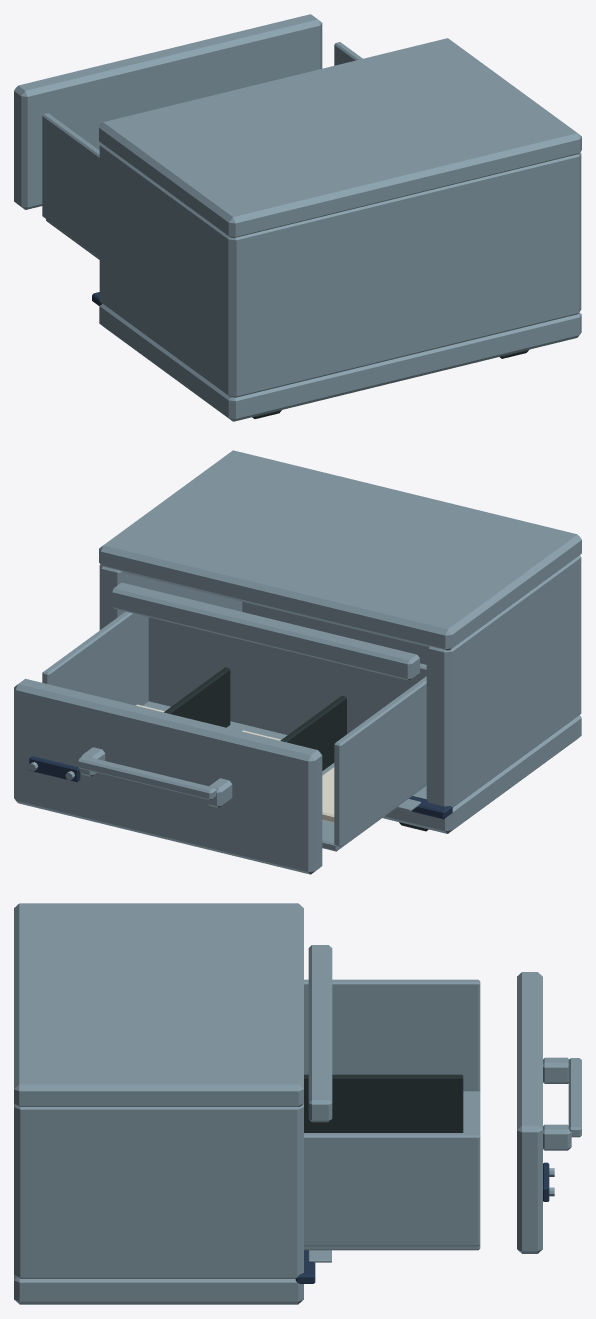
Rendered from undercounter_service_drawer_opened.glb.
The picture shows the model from 3 angles, top to bottom: view 1: azimuth 30°, elevation 25°; view 2: azimuth 150°, elevation 25°; view 3: azimuth 270°, elevation 25°; orthographic projection. The views are drawn at different scales.
Visible parts, largest first — view 1: body_roof, body_back_wall, body_side_wall (×2), moving_drawer_face, body_floor, moving_tray_side; view 2: body_roof, moving_drawer_face, body_side_wall (×2), moving_tray_side (×2), moving_tray_back, fixed_upper_fascia, moving_tray_divider (×2), body_floor, body_back_wall, moving_pull_grip, moving_tray_floor, moving_drawer_id_plate (+1 smaller); view 3: body_roof, body_side_wall, moving_tray_side (×2), moving_tray_divider, body_floor, moving_drawer_face, fixed_upper_fascia, body_back_wall, moving_tray_floor, moving_pull_mount (×2), moving_pull_grip.
Part boxes in pixels (x1,y1,x2,y2): body_roof: (99, 38, 581, 238); body_back_wall: (219, 155, 578, 397); body_side_wall (×2): (99, 143, 581, 397); moving_drawer_face: (14, 14, 322, 209); body_floor: (99, 304, 581, 421); moving_tray_side: (42, 113, 99, 257); body_roof: (99, 450, 581, 650); moving_drawer_face: (14, 678, 322, 874); body_side_wall (×2): (99, 555, 581, 807); moving_tray_side (×2): (42, 611, 426, 846); moving_tray_back: (148, 617, 426, 734); fixed_upper_fascia: (111, 582, 419, 680); moving_tray_divider (×2): (164, 667, 346, 770); body_floor: (383, 715, 581, 833); body_back_wall: (242, 555, 581, 719); moving_pull_grip: (77, 755, 216, 800); moving_tray_floor: (143, 701, 426, 851); moving_drawer_id_plate: (29, 756, 80, 782); body_roof: (14, 903, 303, 1106); body_side_wall: (14, 1104, 303, 1278); moving_tray_side (×2): (304, 979, 480, 1246); moving_tray_divider: (304, 1074, 463, 1132); body_floor: (14, 1275, 303, 1304); moving_drawer_face: (517, 972, 542, 1253); fixed_upper_fascia: (308, 945, 332, 1122); body_back_wall: (15, 1105, 39, 1278); moving_tray_floor: (304, 1091, 480, 1250); moving_pull_mount (×2): (543, 1057, 571, 1150); moving_pull_grip: (568, 1058, 581, 1137).
Bounding box in the file's own units: 1.15 × 0.69 × 1.49.
